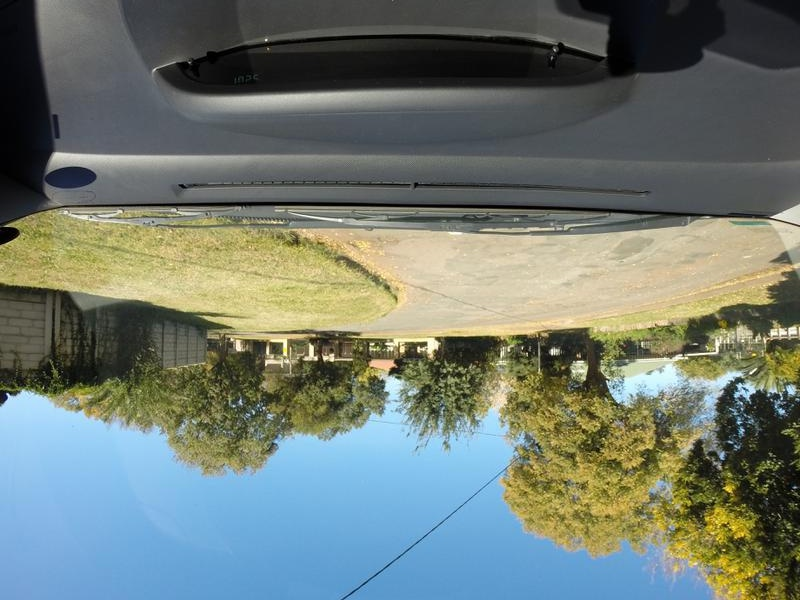pothole: (347, 235, 396, 252)
